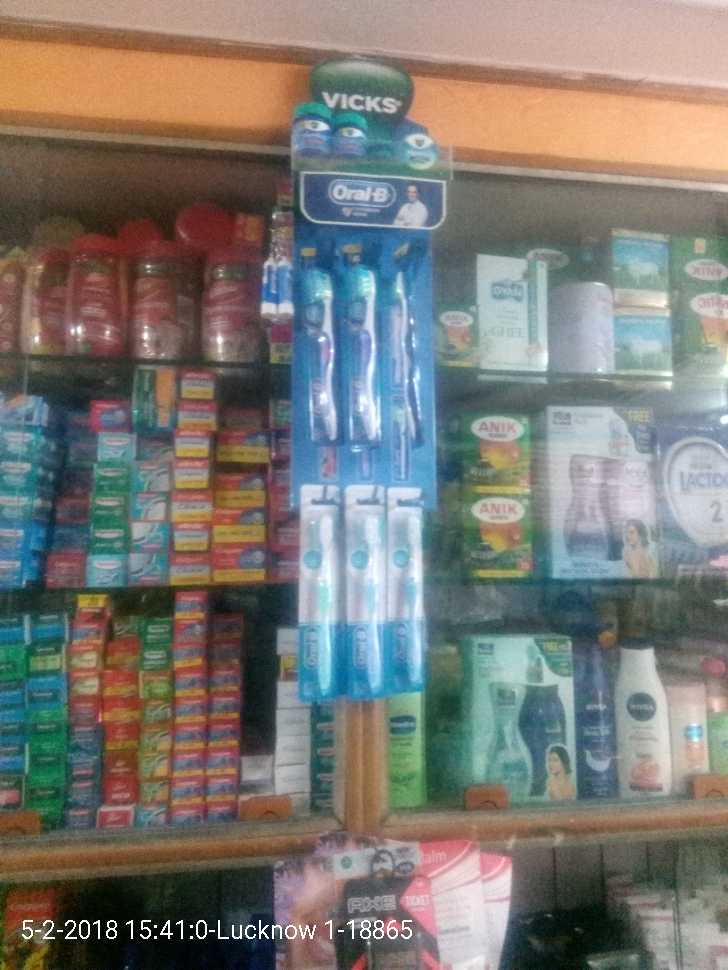oralb: (346, 478, 394, 704), (300, 480, 348, 704), (386, 253, 440, 444), (300, 258, 349, 460), (346, 260, 399, 446), (392, 500, 437, 697)
